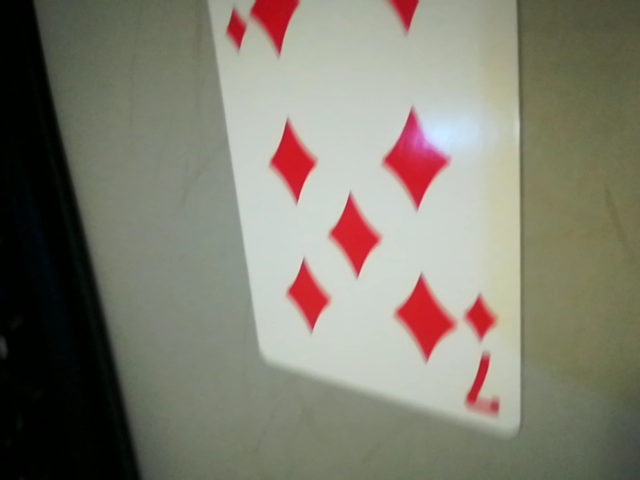fk 7: (453, 287, 514, 430)
